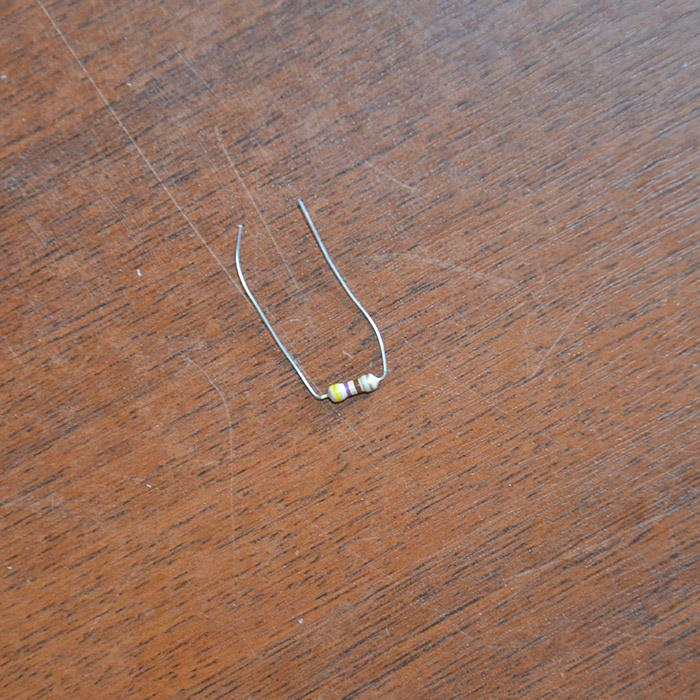resistor: (325, 371, 381, 402)
